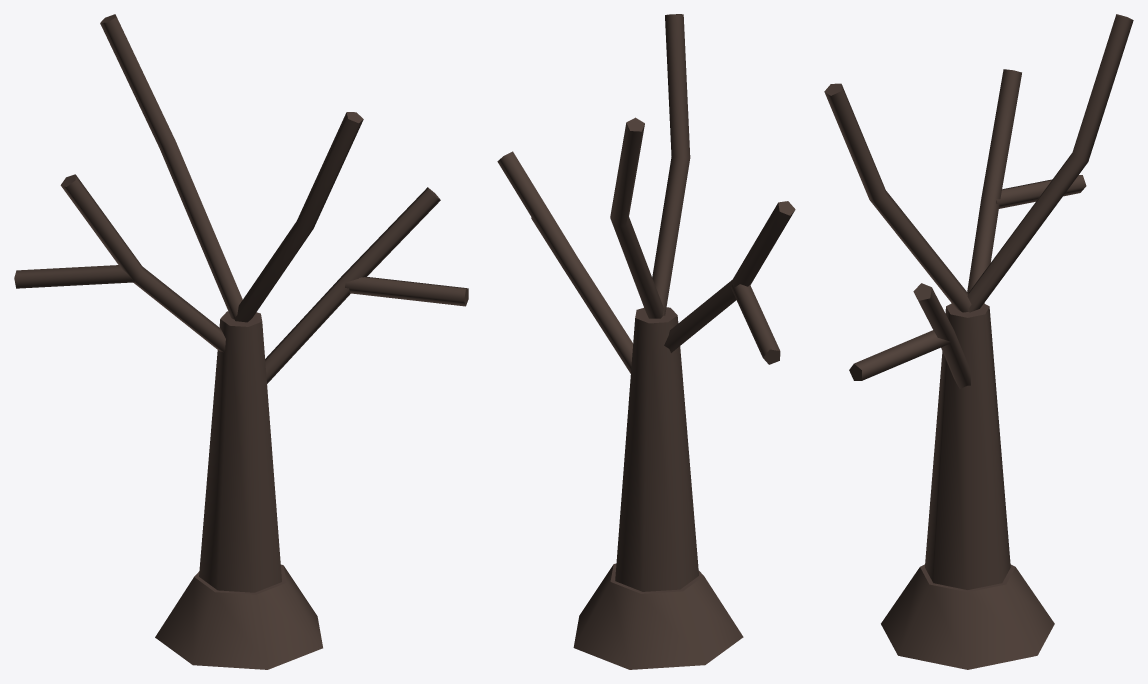
The model's file is tree_dead.glb.
3 views of the same model, side by side, from view 1: azimuth 30°, elevation 25°; view 2: azimuth 150°, elevation 25°; view 3: azimuth 270°, elevation 25° (orthographic). The views are drawn at different scales.
Parts seen in each view (by area): view 1: root; view 2: root; view 3: root.
Boxes of the visible parts, x1,y1,x2,y2 form: root: [14, 14, 468, 669]; root: [497, 14, 795, 669]; root: [824, 14, 1133, 669].
Bounding box in the file's own units: 1.86 × 2.92 × 1.39.
